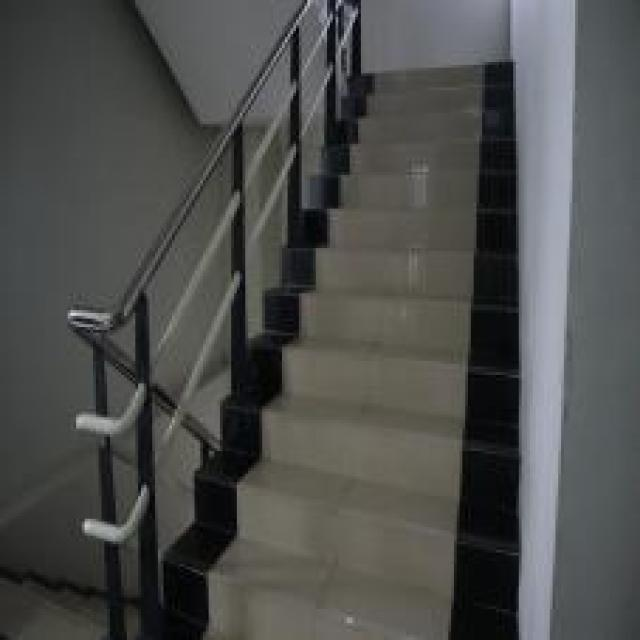upstair: (325, 114, 506, 517)
